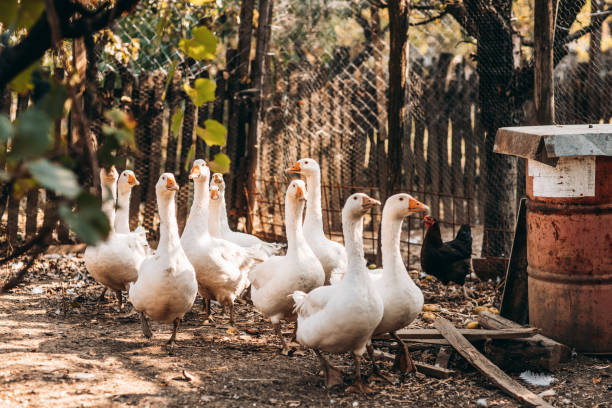goose: (293, 189, 381, 389), (361, 190, 431, 380), (133, 170, 192, 346), (182, 158, 237, 308), (252, 180, 309, 324), (87, 169, 144, 310), (289, 151, 340, 263), (211, 172, 229, 245)
